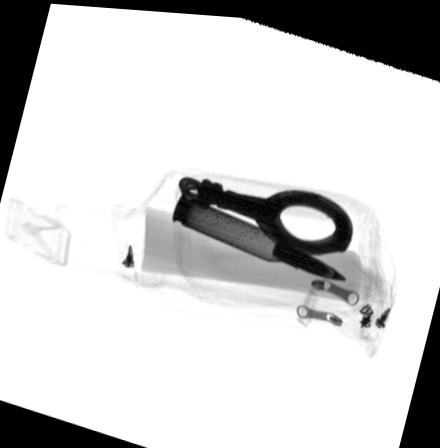Bullet: (170, 190, 347, 275)
HandCuffs: (175, 169, 353, 251)
